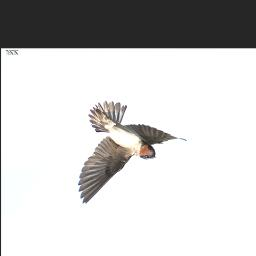Swallow: (76, 98, 188, 206)
